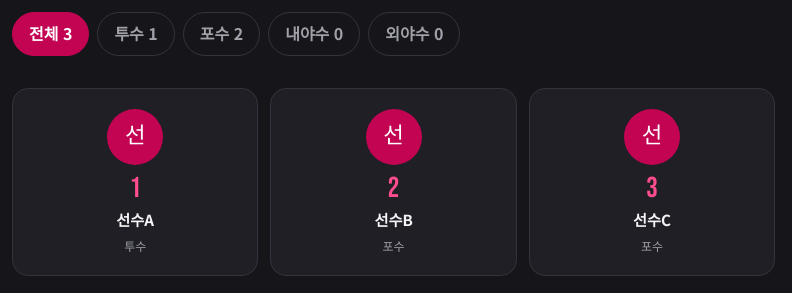
Test: PlayerGrid › filters players when a position tab is selected
Click the button "포수 2".
click(222, 34)  # box [183, 12, 260, 56]
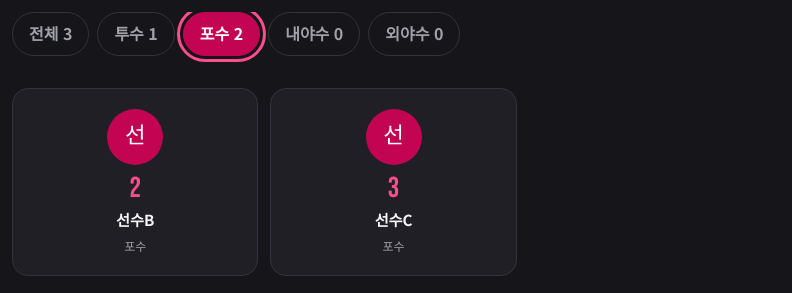
Expected: the text "선수B" is shown, [116, 207, 154, 232]
Result: the link "선수A" is gone
